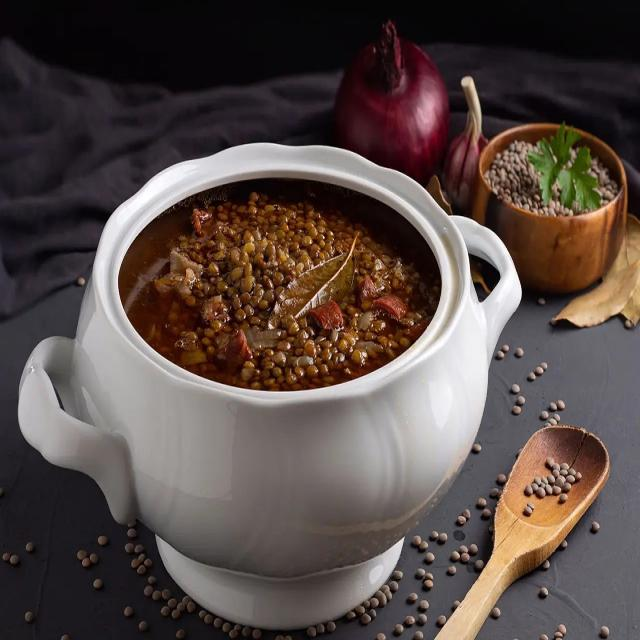lentejas: (110, 140, 462, 437)
